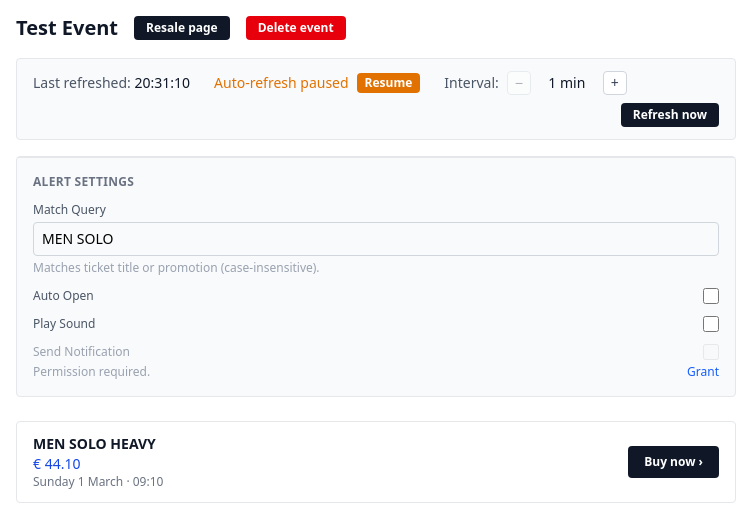
Test case: EventDetailPage › auto-refresh pause on match › clicking Resume restores the countdown display
This screenshot has width=753, height=520.
Click the button with aria-label "Resume auto-refresh" at (388, 83), box [357,73,420,93]
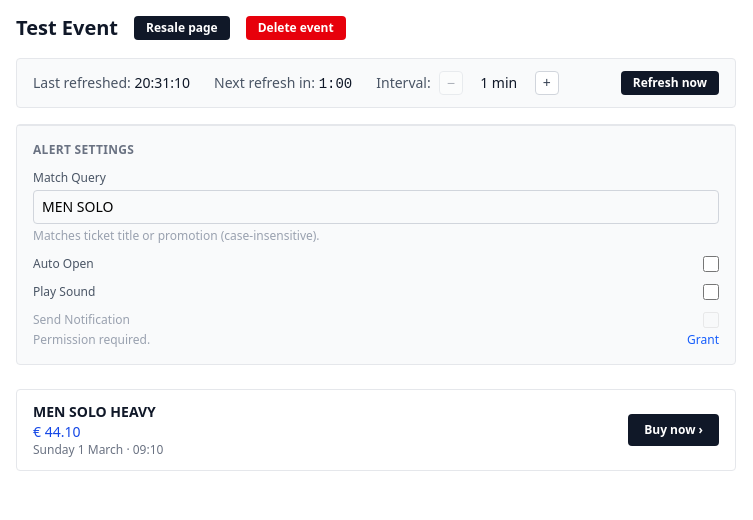
expect the text "Next refresh in: 1:00" is shown: met, box [214,72,352,94]
